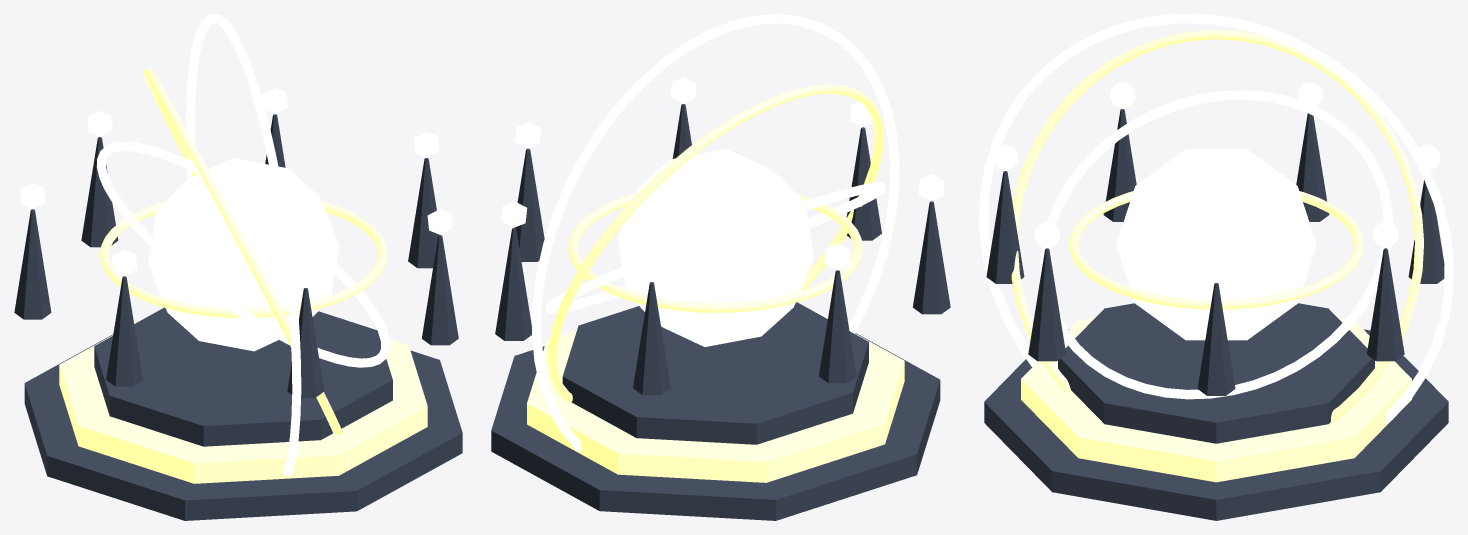
The model's file is gpu-blender-v28.glb.
The picture shows the model from 3 angles, left to right: view 1: azimuth 30°, elevation 25°; view 2: azimuth 150°, elevation 25°; view 3: azimuth 270°, elevation 25°; orthographic projection. The views are drawn at different scales.
Visible parts, largest first — view 1: Cylinder.002, SovereignCore_zoth-os-website, Cylinder, Cylinder.001, Torus.003, Torus.001, Torus, Torus.002, Cone.003, Cone.006, Cone.004, Cone (+8 smaller); view 2: Cylinder.002, SovereignCore_zoth-os-website, Cylinder, Cylinder.001, Torus.003, Torus.002, Torus.001, Torus, Cone.003, Cone.004, Cone.002, Cone.001 (+9 smaller); view 3: SovereignCore_zoth-os-website, Cylinder.002, Cylinder, Cylinder.001, Torus.003, Torus.002, Torus.001, Torus, Cone.001, Cone.006, Cone, Cone.005 (+5 smaller).
Boxes of the visible parts, x1,y1,x2,y2 form: Cylinder.002: (94, 307, 392, 446); SovereignCore_zoth-os-website: (148, 158, 339, 351); Cylinder: (24, 334, 462, 520); Cylinder.001: (59, 315, 427, 483); Torus.003: (186, 14, 301, 476); Torus.001: (96, 141, 390, 367); Torus: (100, 201, 387, 317); Torus.002: (143, 68, 342, 435); Cone.003: (14, 209, 51, 319); Cone.006: (421, 235, 458, 345); Cone.004: (106, 276, 142, 386); Cone: (408, 158, 440, 268); Cylinder.002: (562, 302, 868, 444); SovereignCore_zoth-os-website: (617, 149, 813, 346); Cylinder: (491, 333, 940, 520); Cylinder.001: (527, 310, 904, 482); Torus.003: (532, 14, 899, 452); Torus.002: (547, 84, 883, 403); Torus.001: (545, 182, 885, 313); Torus: (568, 193, 862, 312); Cone.003: (819, 270, 856, 383); Cone.004: (912, 201, 950, 314); Cone.002: (633, 282, 670, 394); Cone.001: (495, 228, 531, 340); SovereignCore_zoth-os-website: (1116, 149, 1316, 340); Cylinder.002: (1058, 303, 1374, 443); Cylinder: (984, 329, 1448, 520); Cylinder.001: (1021, 317, 1411, 482); Torus.003: (979, 14, 1453, 424); Torus.002: (1011, 30, 1423, 422); Torus.001: (1040, 90, 1392, 399); Torus: (1069, 191, 1363, 309); Cone.001: (1366, 248, 1404, 361); Cone.006: (1028, 248, 1066, 361); Cone: (1197, 283, 1235, 395); Cone.005: (986, 171, 1024, 283).
Size of the model in its own units: 4.41 by 4.7 by 4.49.
